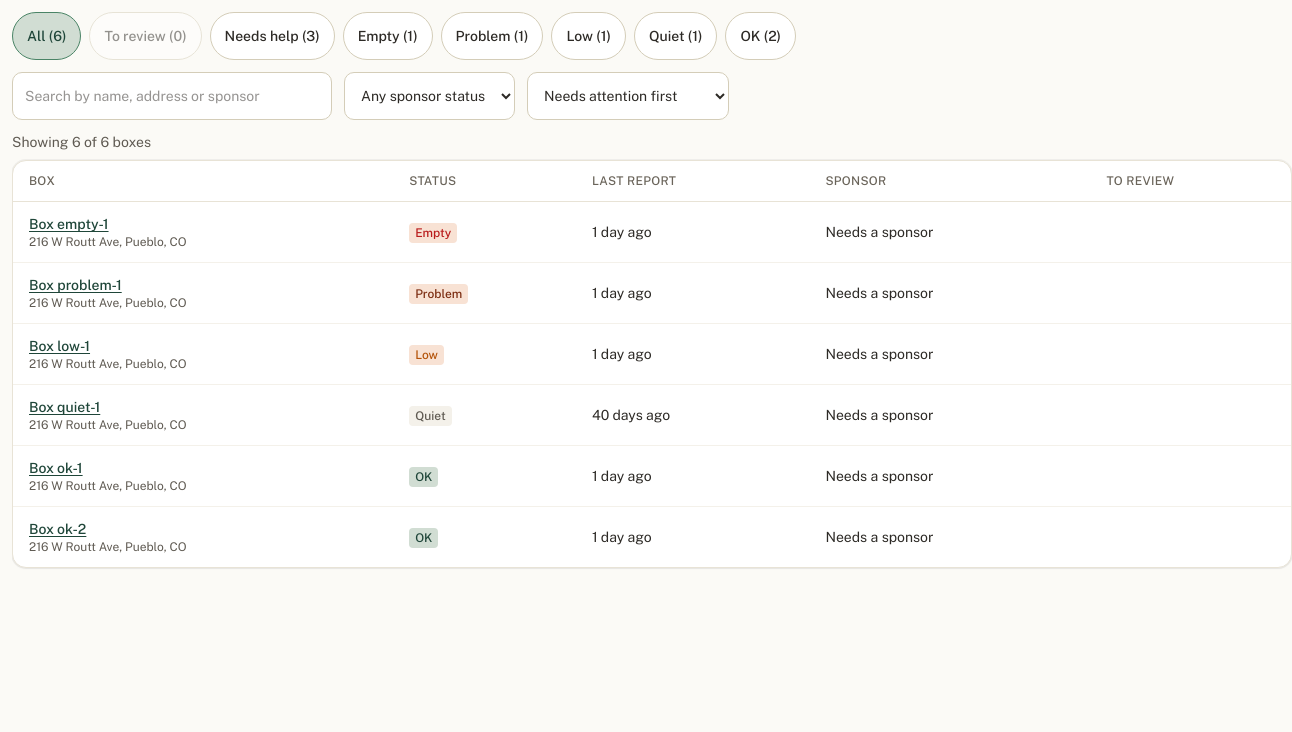
Test: AllBoxesTable — status filter buttons › clicking a specific status (Quiet) filters to only that status
Click the button "Quiet (1)": (676, 36) [634,12,717,60]
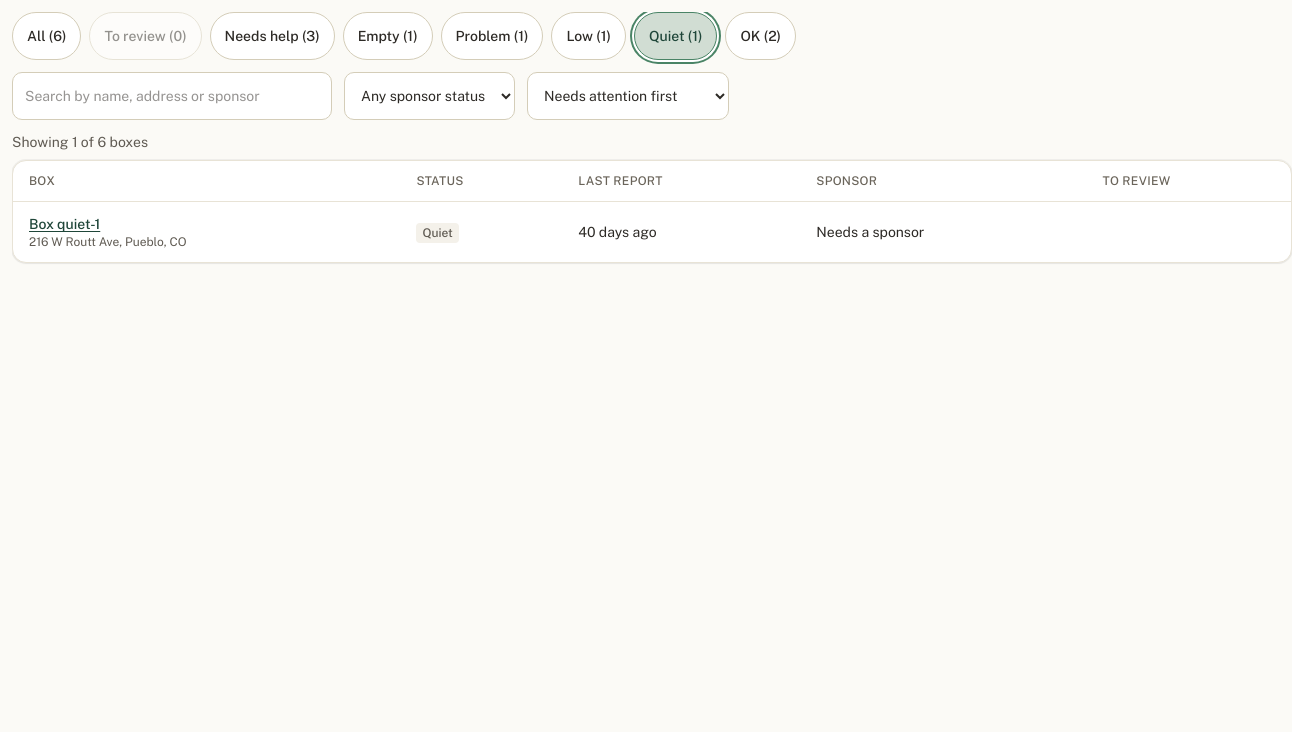
Check: the link "Box quiet-1" is shown, box [29,216,100,232]
Check: the link "Box ok-1" is gone
